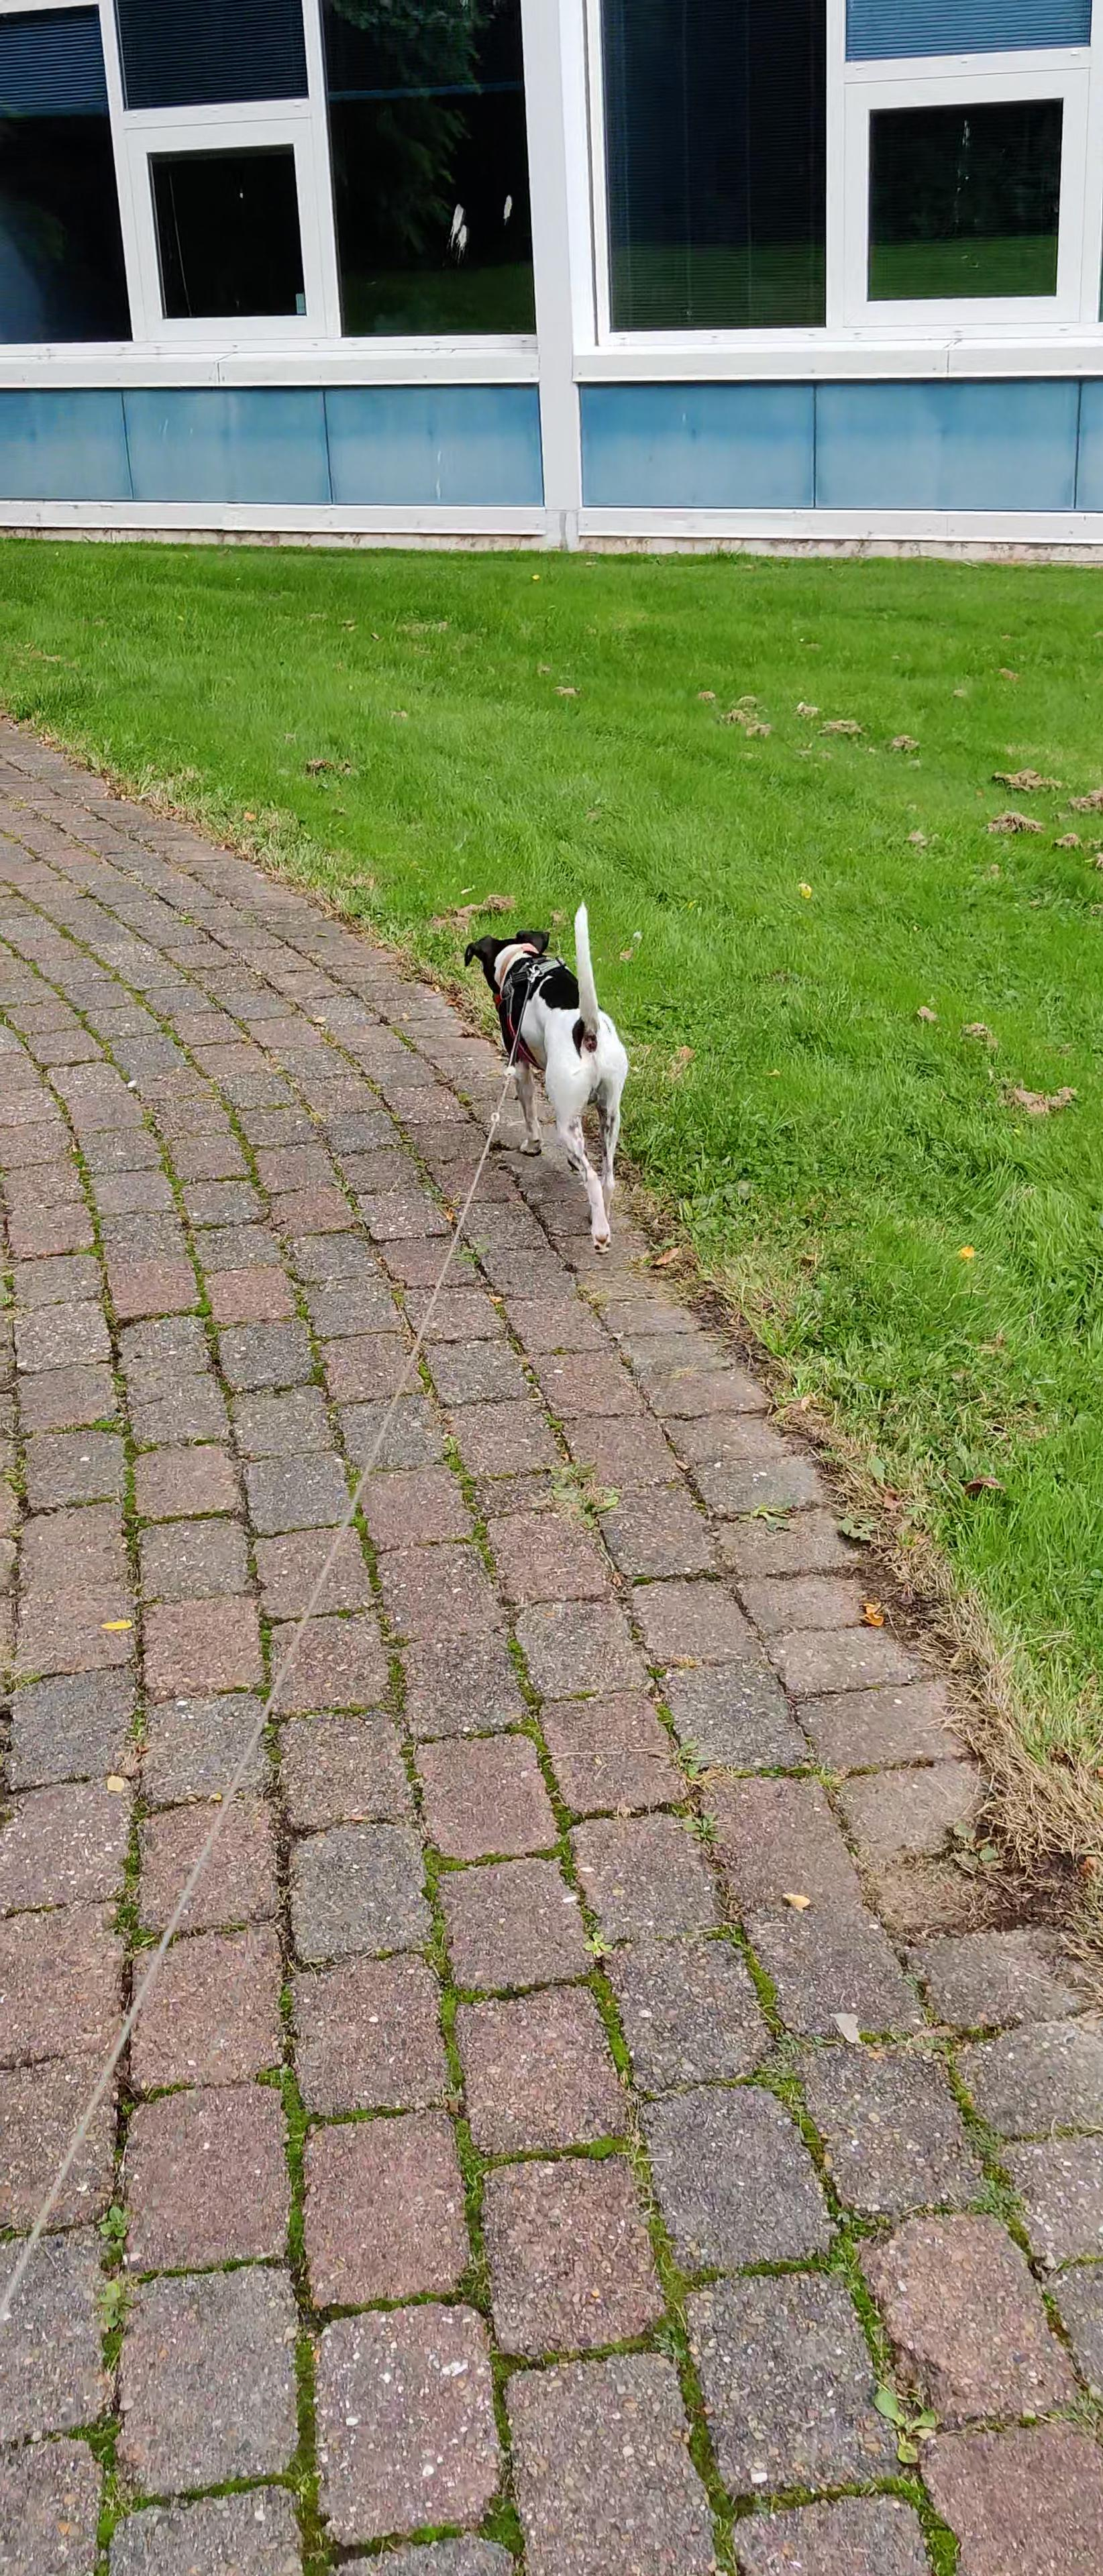Dog: (460, 897, 630, 1255)
